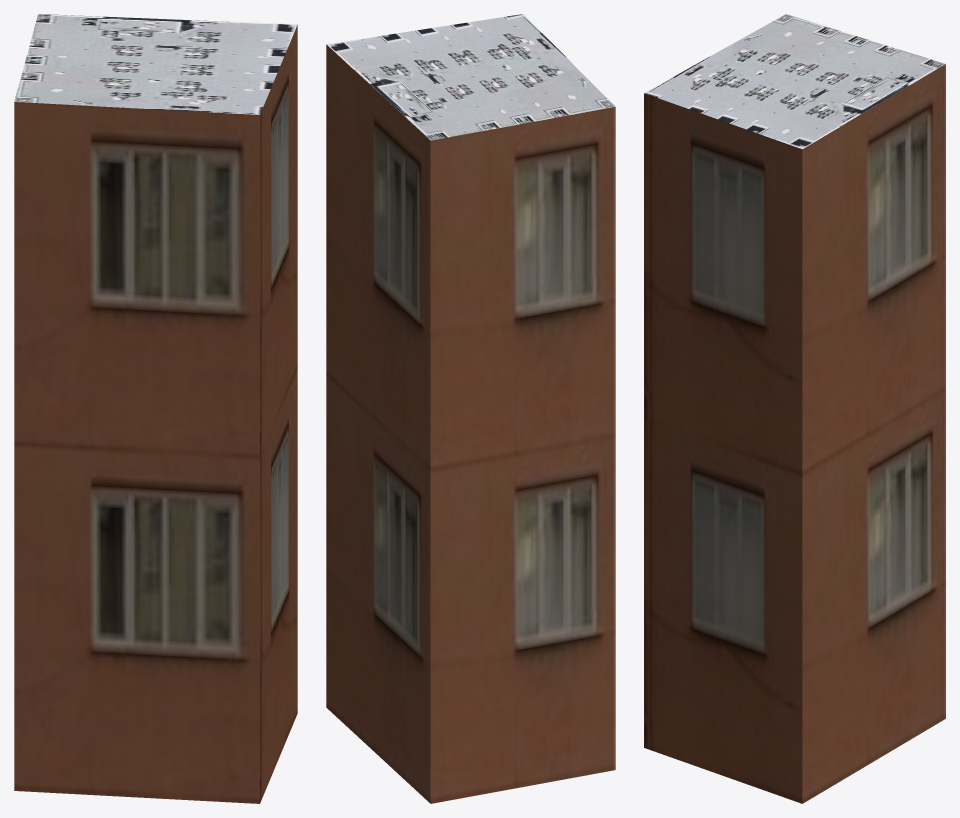
File: ResTex__5125.fbx
The picture shows the model from 3 angles, left to right: view 1: azimuth 30°, elevation 25°; view 2: azimuth 150°, elevation 25°; view 3: azimuth 270°, elevation 25°; orthographic projection. The views are drawn at different scales.
Parts seen in each view (by area): view 1: CityEngineMaterial_20_m, CityEngineMaterial_4_m; view 2: CityEngineMaterial_20_m, CityEngineMaterial_4_m; view 3: CityEngineMaterial_20_m, CityEngineMaterial_4_m.
Part boxes in pixels (<box>): CityEngineMaterial_20_m: <box>14,25,297,803</box>; CityEngineMaterial_4_m: <box>14,14,297,114</box>; CityEngineMaterial_20_m: <box>326,44,615,803</box>; CityEngineMaterial_4_m: <box>327,14,615,140</box>; CityEngineMaterial_20_m: <box>644,64,945,803</box>; CityEngineMaterial_4_m: <box>644,14,945,149</box>.
Bounding box in the file's own units: 2.66 × 6 × 2.51.
2 materials, 2 textured.
